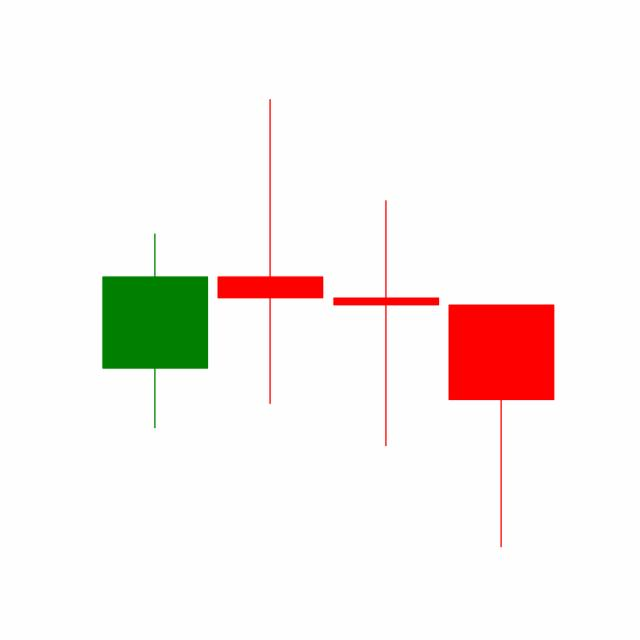Hammer: (443, 301, 559, 550)
